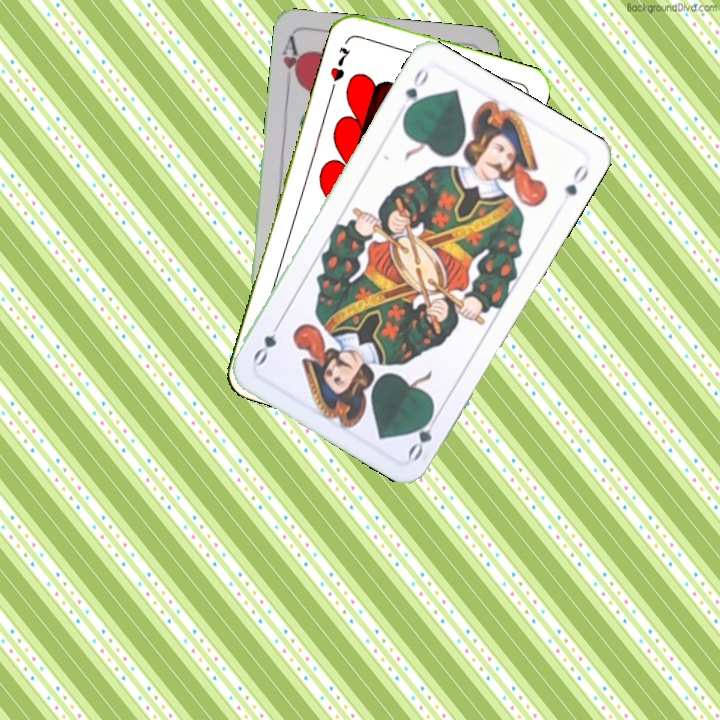GO: (403, 405, 443, 463), (399, 64, 432, 119)
H7: (326, 43, 353, 84)
HA: (278, 33, 305, 92)
